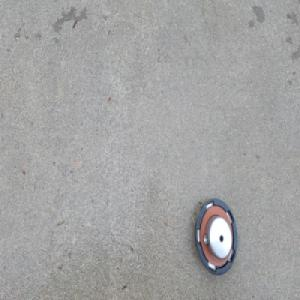FuelCap: (193, 195, 239, 278)
